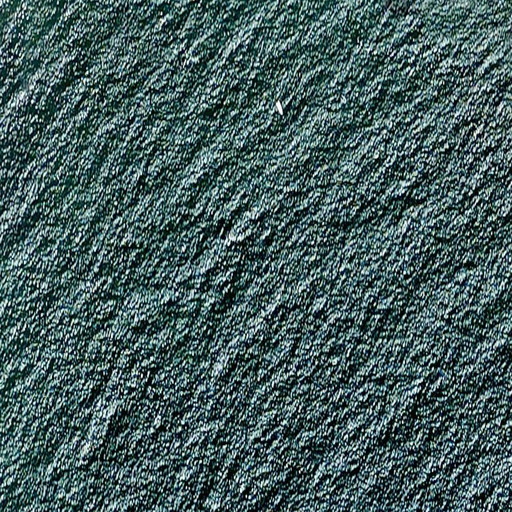ship: (274, 101, 283, 116)
